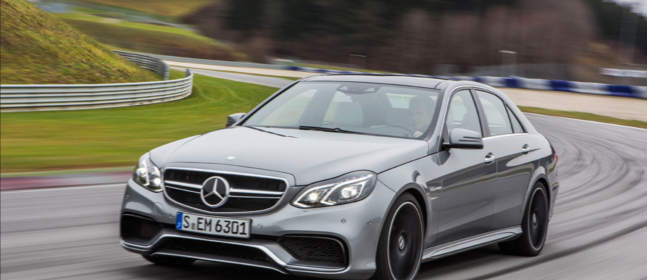car: (117, 52, 535, 280)
